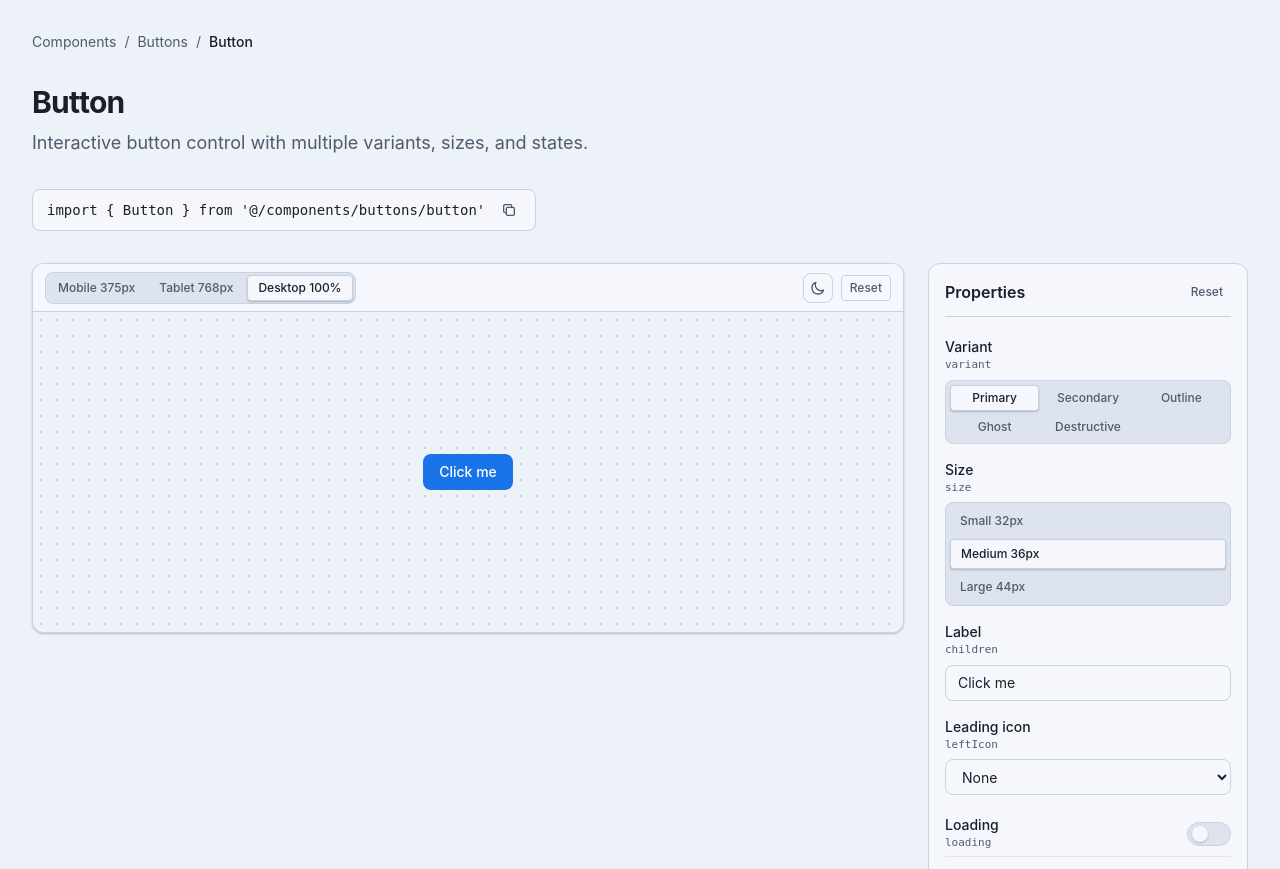
Test: Component Playground Page › updates preview button when toggling loading, disabled, and fullWidth
Toggle Loading switch
Step 1. Click the switch named "Loading" → (1209, 834), box [1187, 822, 1231, 846]
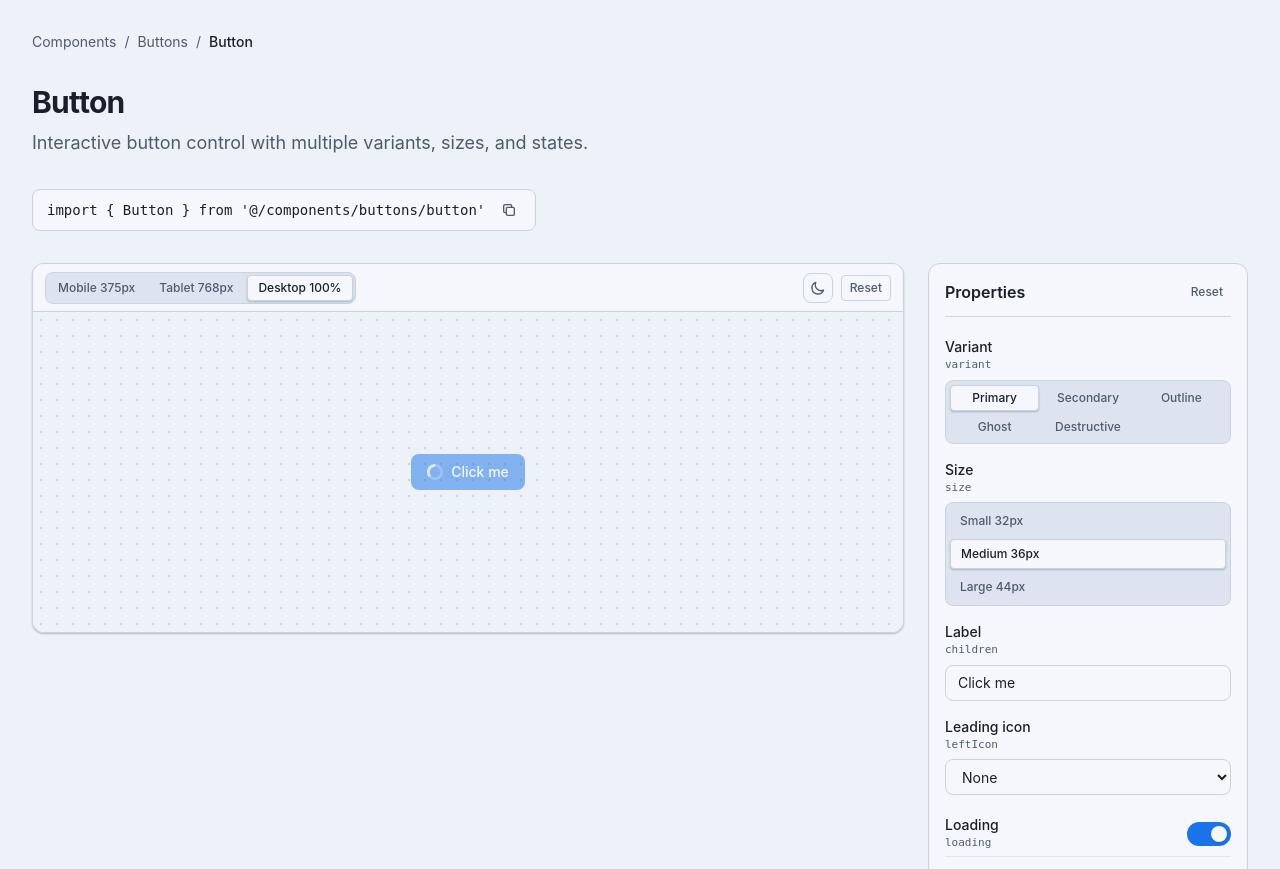
Now the button "Click me" is disabled, box [411, 454, 525, 490]
Now the icon with test id "button-spinner" is shown, box [427, 464, 443, 480]
Turn off loading
Step 2. Click the switch named "Loading" → (1209, 834), box [1187, 822, 1231, 846]
(page scrolled)
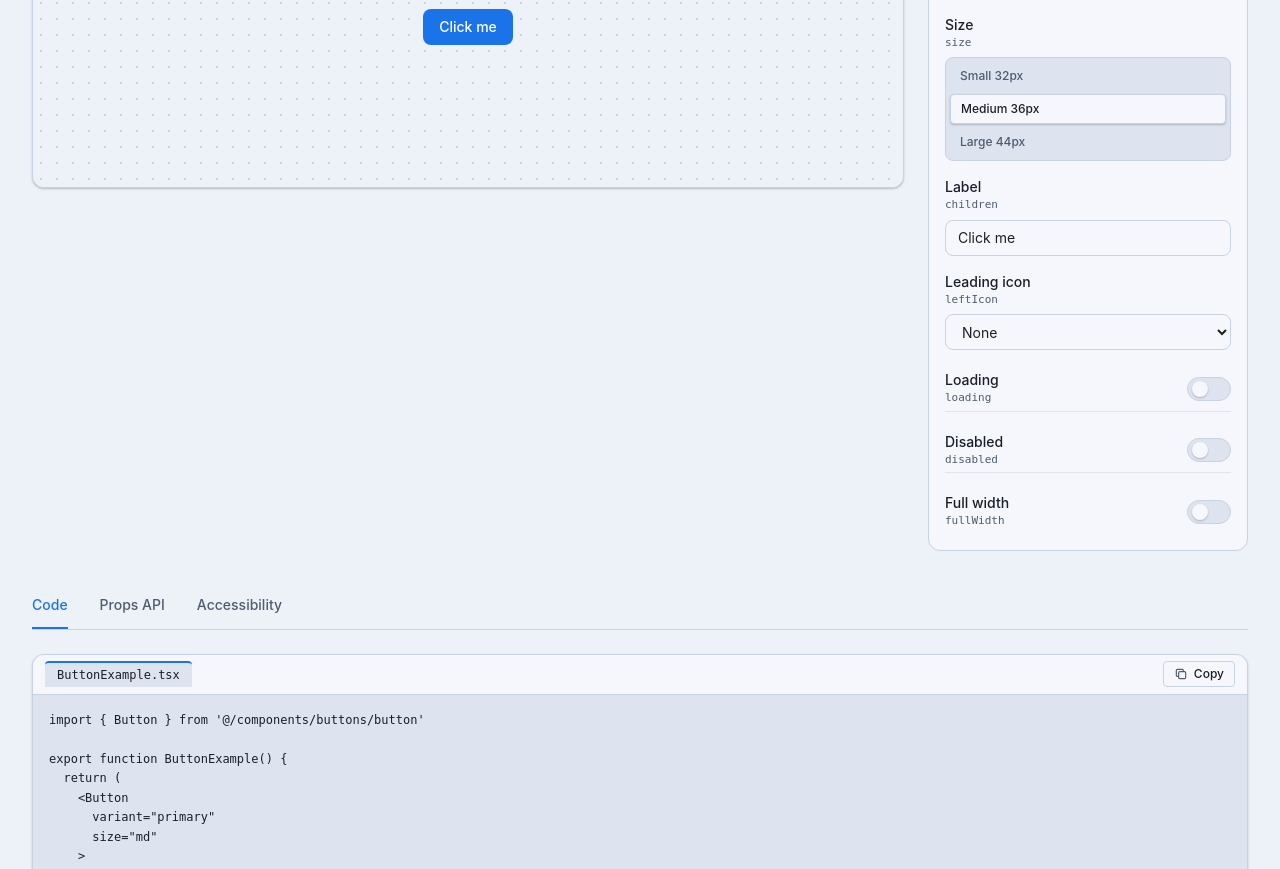
Now the button "Click me" does not have attribute aria-busy, box [423, 9, 513, 45]
Toggle Disabled switch
Step 3. Click the switch named "Disabled" → (1209, 450), box [1187, 438, 1231, 462]
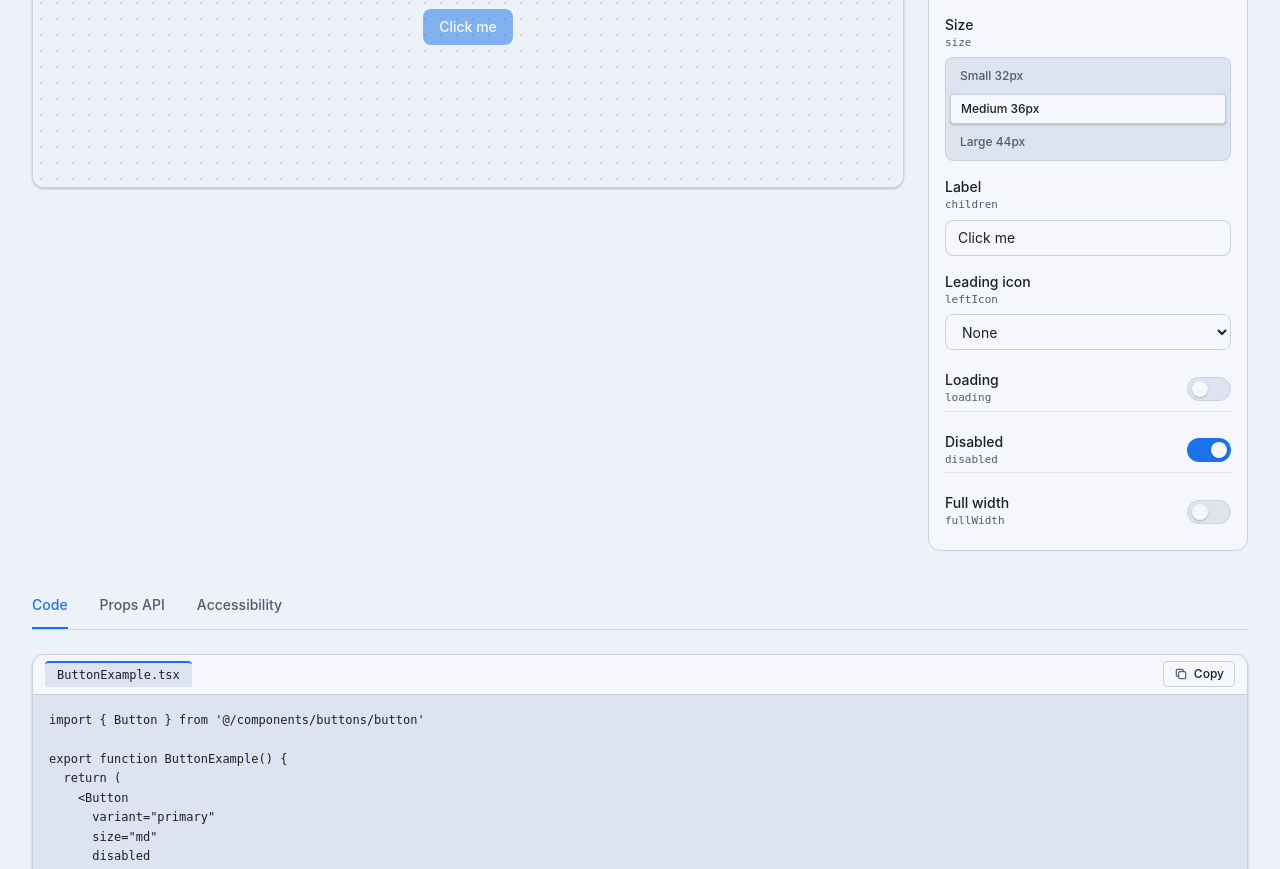
Now the button "Click me" is disabled, box [423, 9, 513, 45]
Toggle Full width switch
Step 4. Click the switch named "Full width" → (1209, 512), box [1187, 500, 1231, 524]
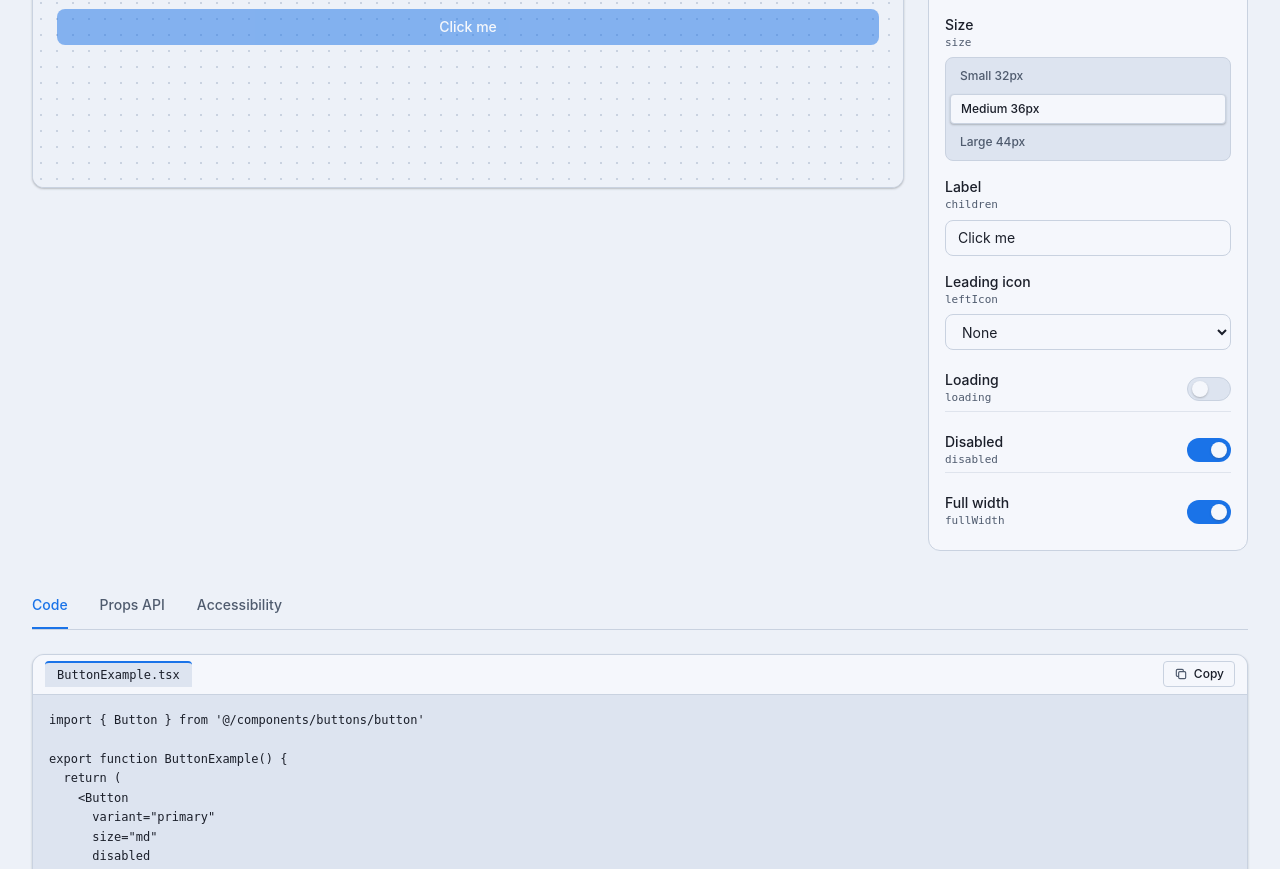
Now the button "Click me" has class "w-full", box [57, 9, 879, 45]
